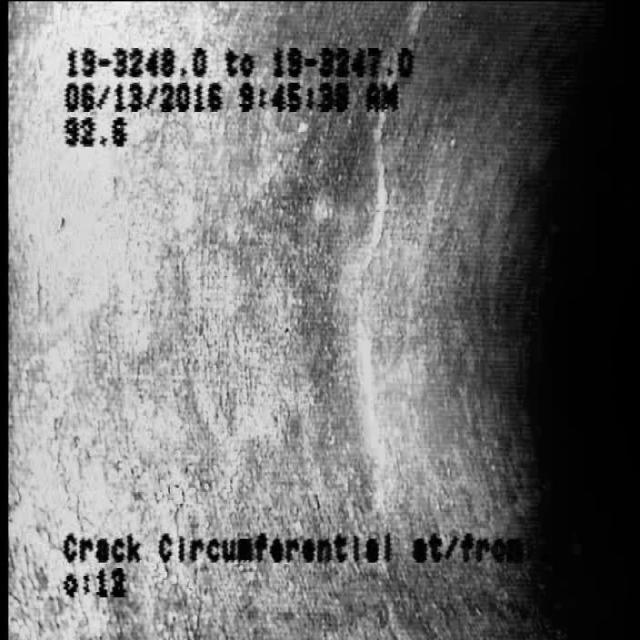Crack: (340, 148, 416, 488)
